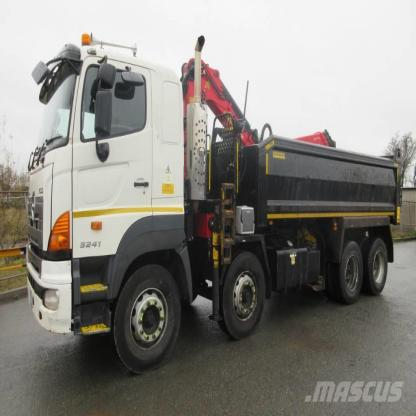dump_truck: (14, 20, 404, 372)
